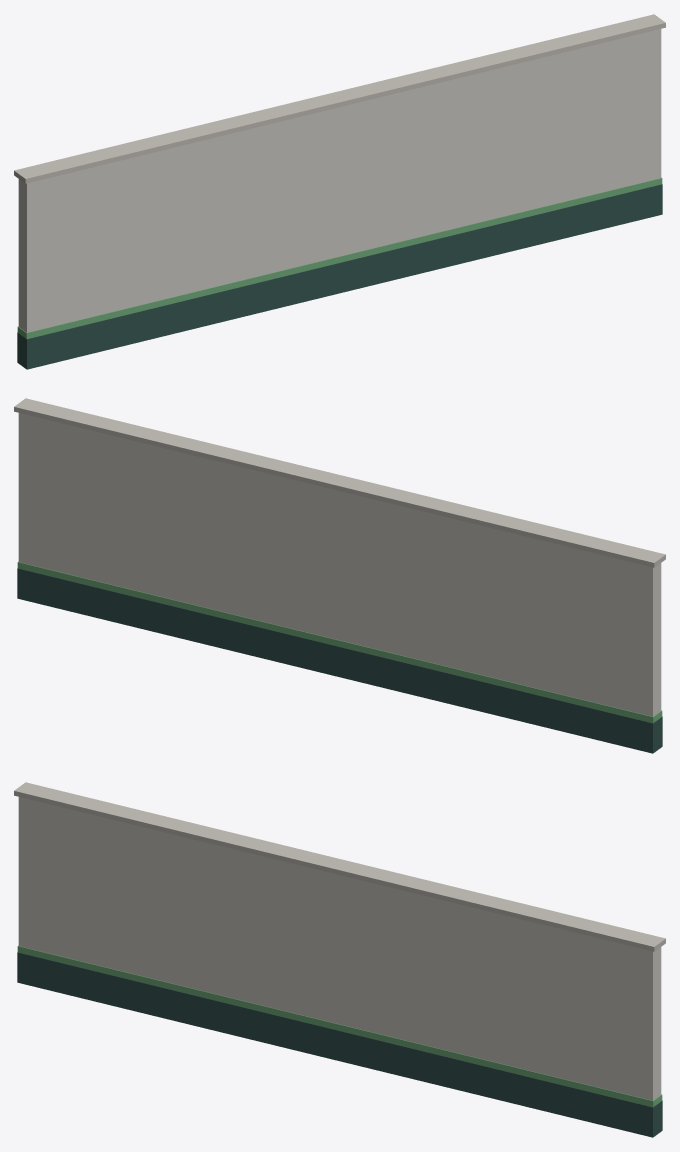
The model's file is wall.glb.
The picture shows the model from 3 angles, top to bottom: view 1: azimuth 30°, elevation 25°; view 2: azimuth 150°, elevation 25°; view 3: azimuth 330°, elevation 25°; orthographic projection.
Visible parts, largest first — view 1: body; view 2: body; view 3: body.
Part boxes in pixels (<box>): body: <box>14,14,665,369</box>; body: <box>14,398,665,753</box>; body: <box>14,782,665,1137</box>.
Bounding box in the file's own units: 11.1 × 3.18 × 0.35.
